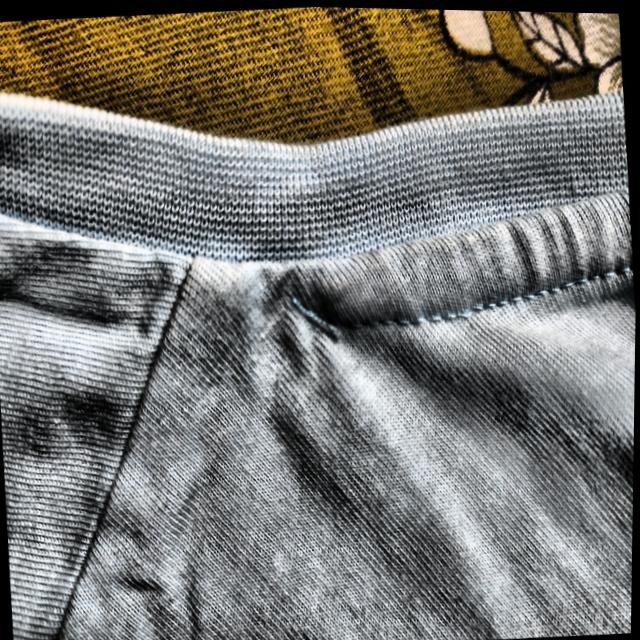Stitch: (242, 242, 387, 373)
